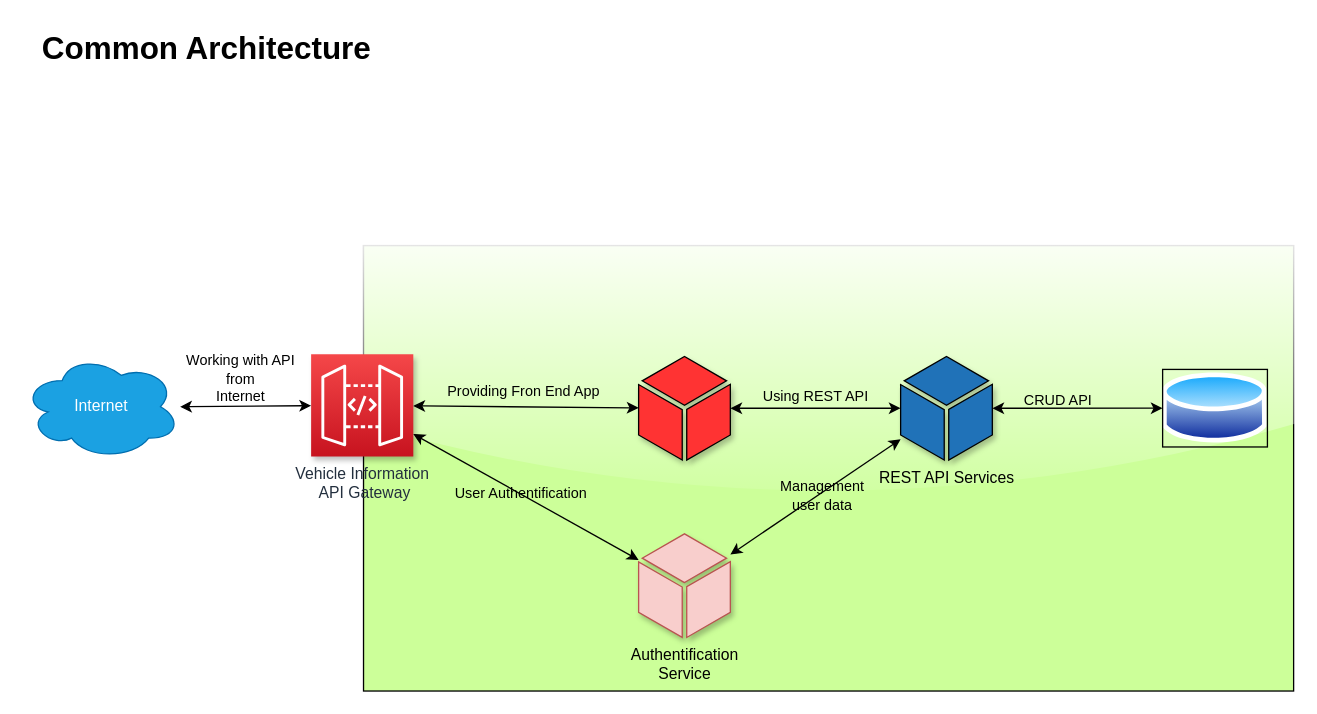
This 1317x714 diagram has some shape labels left out. The centre of each missing label's shape, as x and y in pixels:
"Data Bases" belongs at point (1214, 407).
"Web App Service" belongs at point (685, 409).
